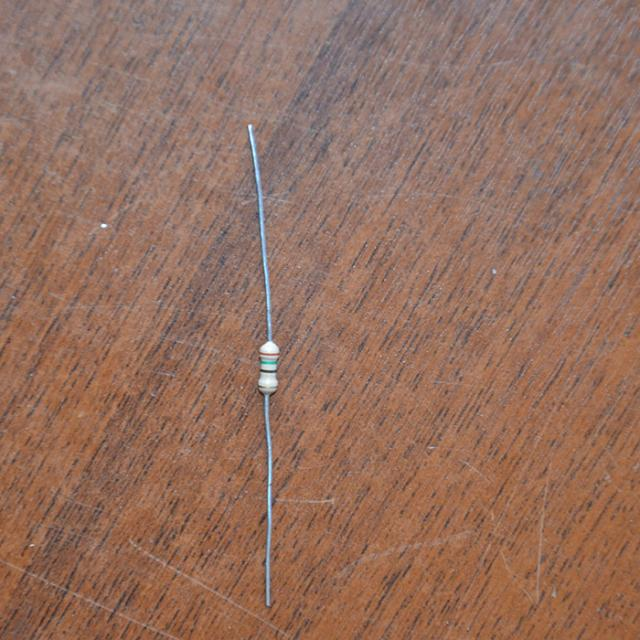black: (261, 369, 276, 373)
brown: (260, 352, 280, 356)
gold: (258, 385, 278, 389)
green: (261, 360, 277, 365)
resistor: (253, 341, 286, 399)
